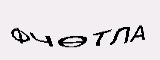З: (84, 19, 100, 45)
И: (32, 12, 52, 43)
М: (54, 15, 84, 44)
П: (97, 22, 109, 47)
Т: (107, 24, 126, 49)
